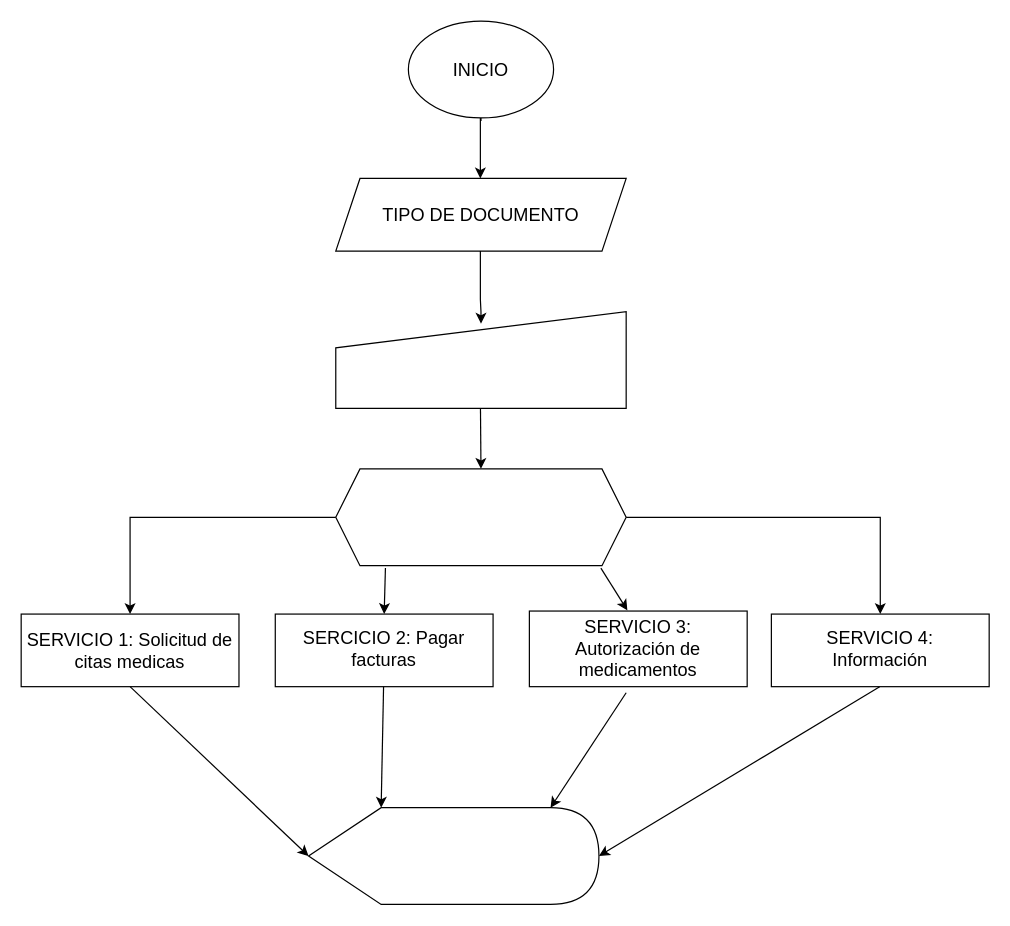
This 1010x926 diagram has some shape labels left out. Each missing label, with the centre of its shape:
NÚMERO DOCUMENTO: point (480, 359)
SELECCIÓN DE SERVICIO: point (480, 517)
VER TURNO EN PANTALLA: point (453, 855)
